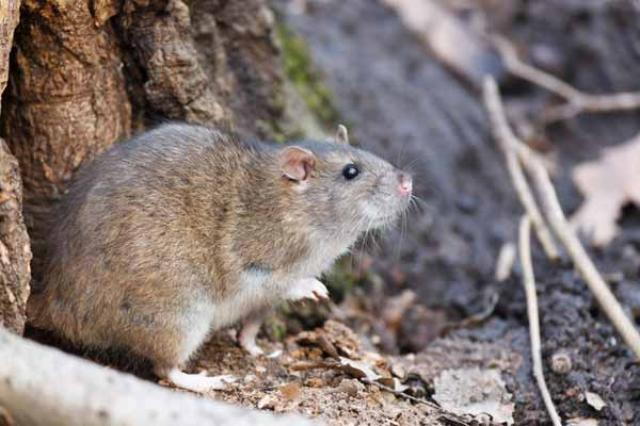rat: (18, 108, 426, 398)
